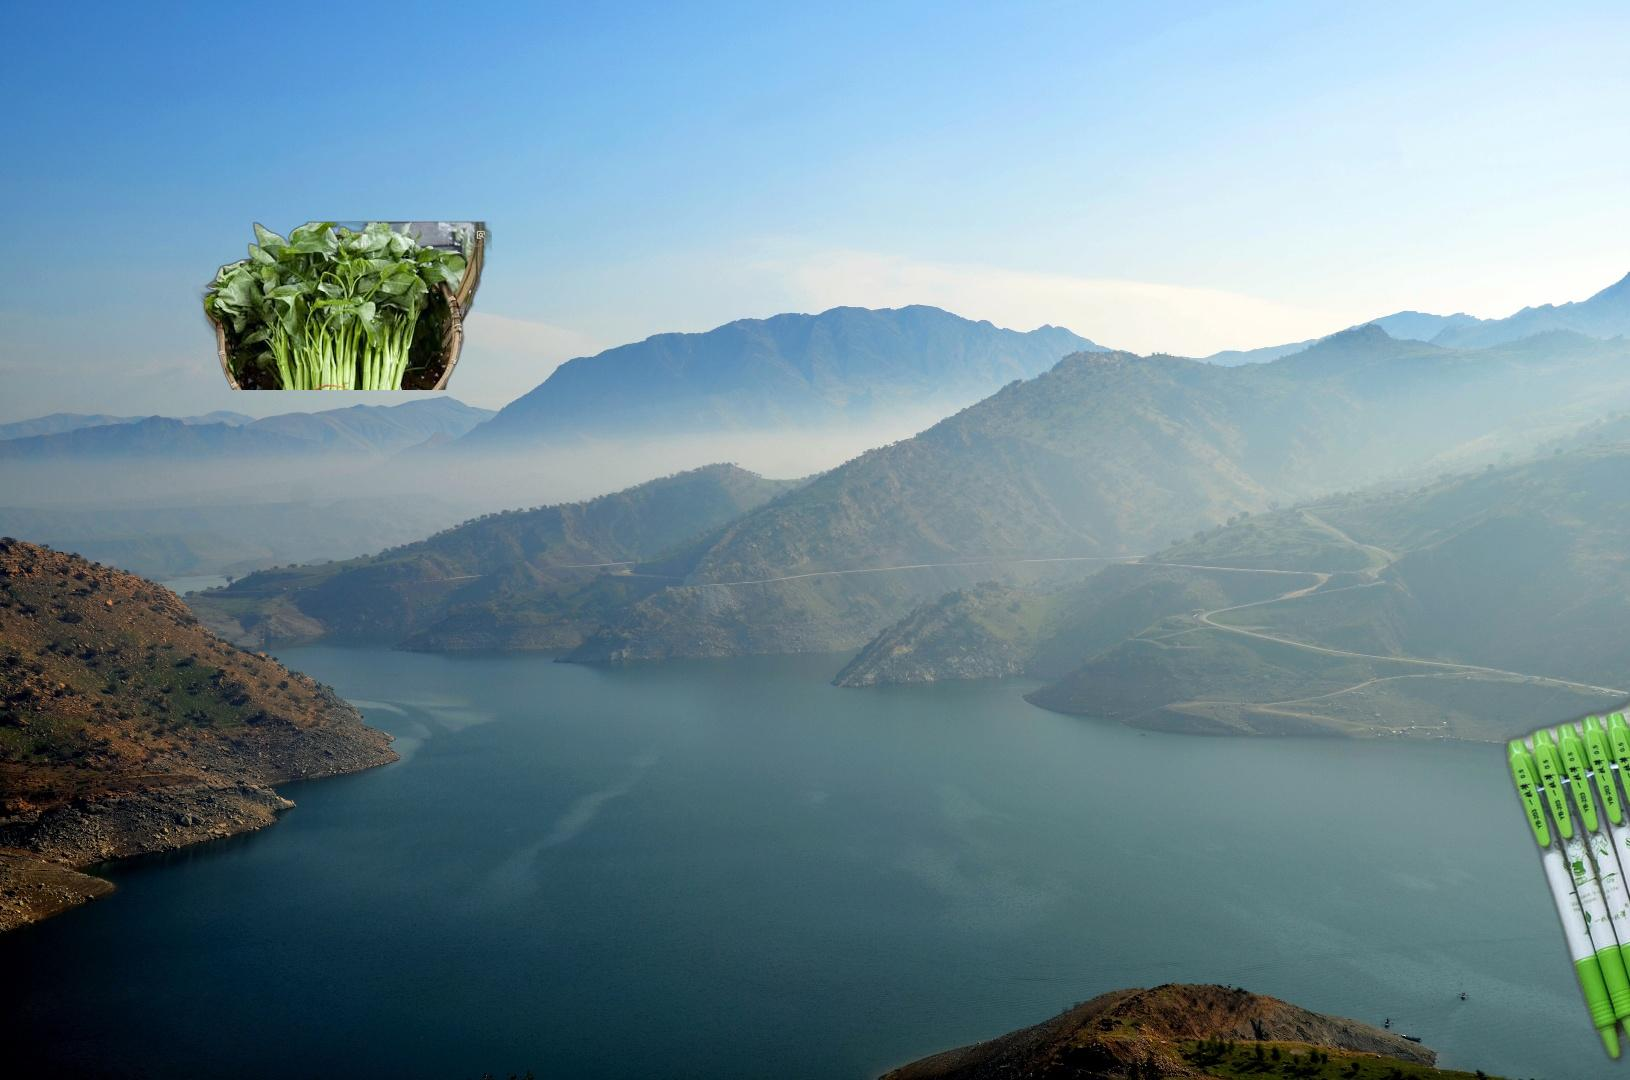biological: (193, 221, 492, 391)
penholder: (1499, 507, 1630, 1080)
